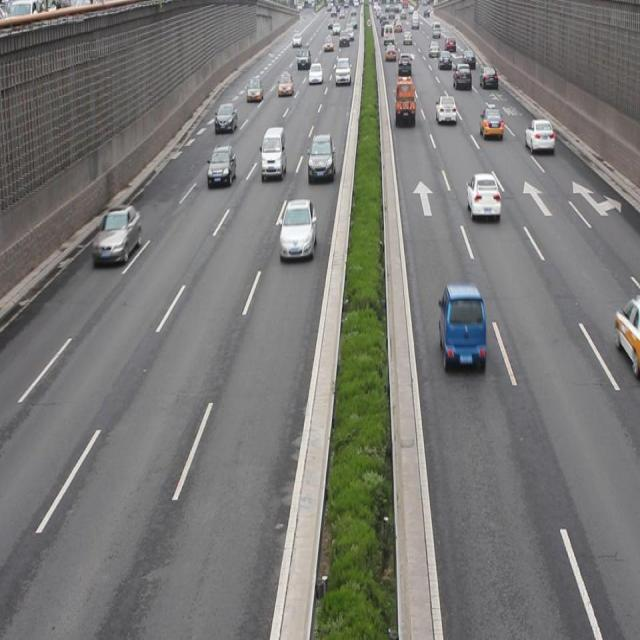car: (436, 284, 485, 369), (92, 205, 141, 266), (278, 200, 315, 260), (466, 172, 499, 222), (307, 134, 334, 180), (524, 115, 554, 155), (207, 145, 234, 187), (479, 108, 502, 140), (213, 104, 236, 132)
truck: (260, 126, 286, 176)
